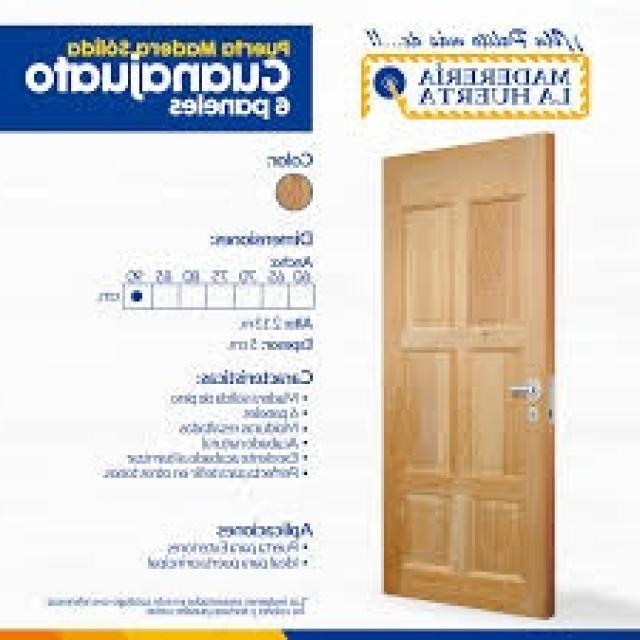door: (381, 130, 558, 618)
